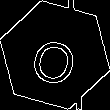O_N: (27, 25, 83, 85)
